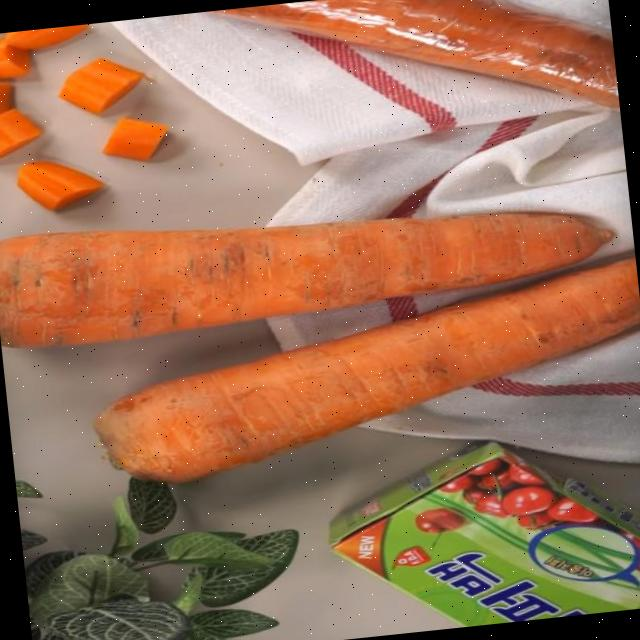carrot: (95, 256, 640, 478), (0, 211, 612, 346), (212, 0, 619, 107)
